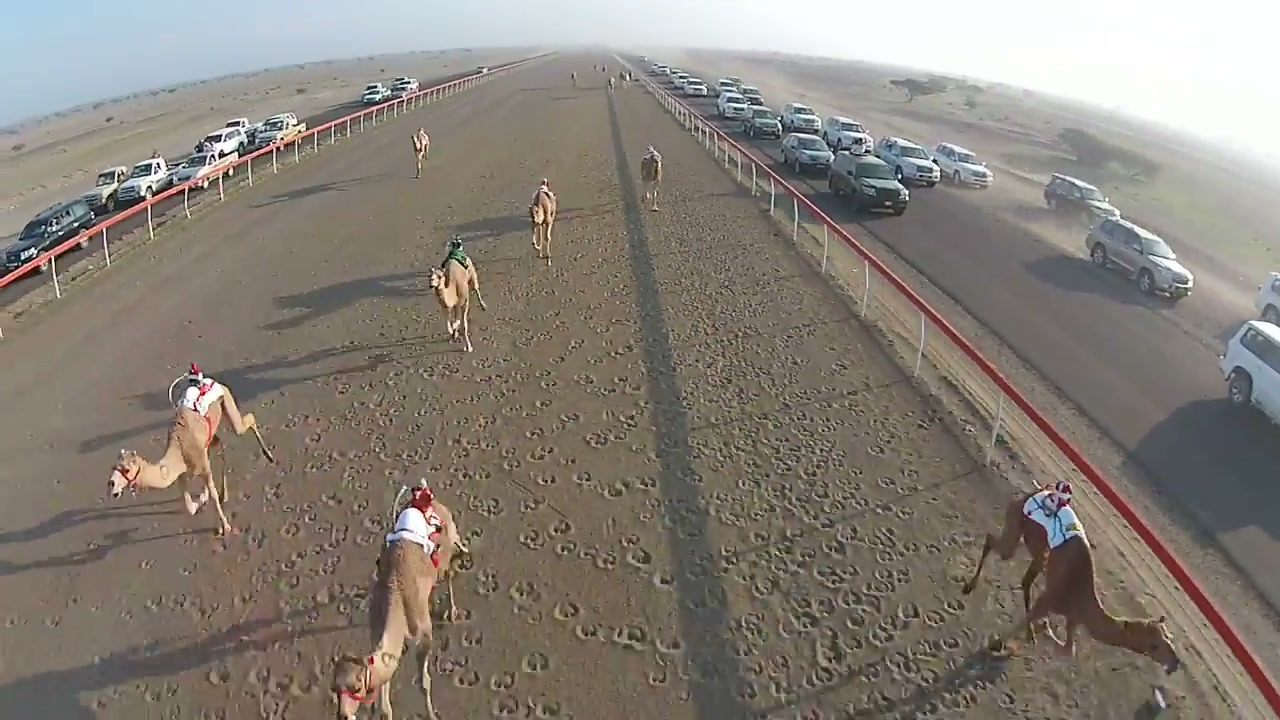animal_footprint: (3, 93, 1149, 719)
